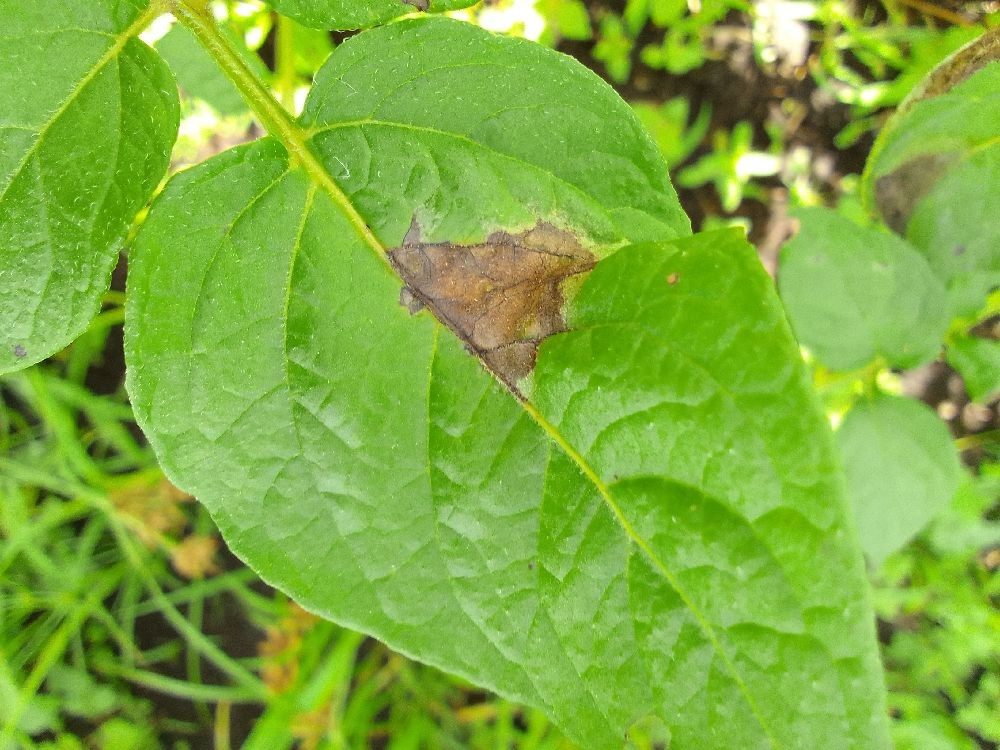late_blight: (517, 0, 916, 314), (371, 204, 615, 408), (889, 347, 1000, 485), (111, 665, 229, 750)
